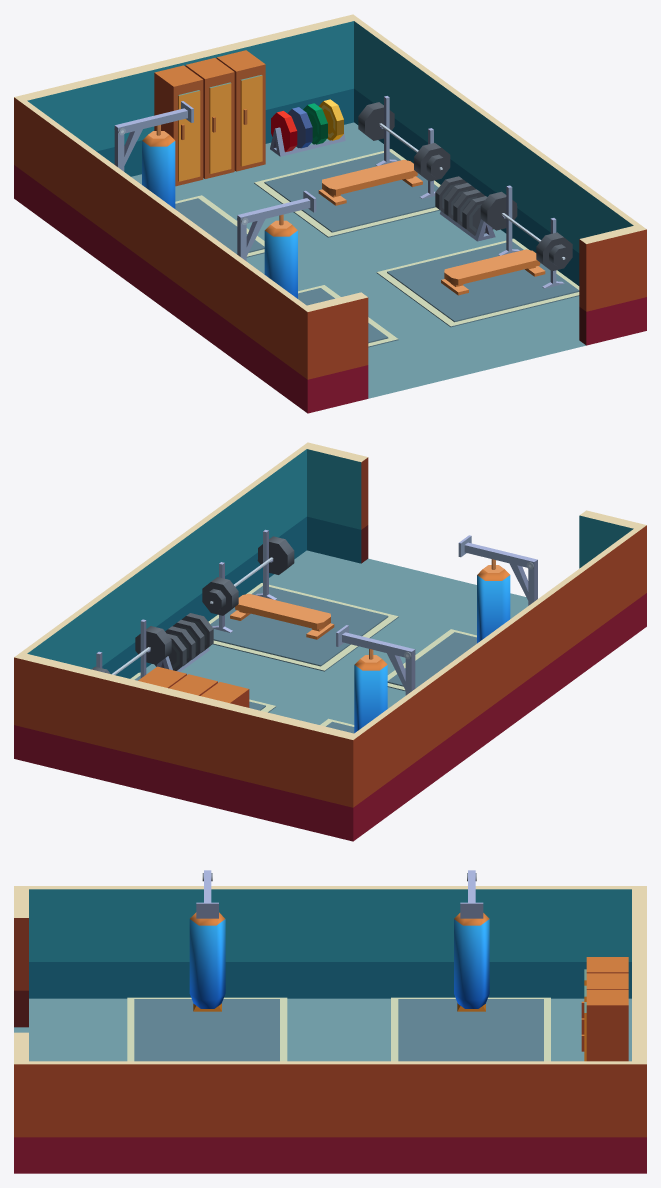
File: Gym_Room_winter.fbx
The picture shows the model from 3 angles, top to bottom: view 1: azimuth 30°, elevation 25°; view 2: azimuth 150°, elevation 25°; view 3: azimuth 270°, elevation 25°; orthographic projection. The views are drawn at different scales.
Parts seen in each view (by area): view 1: wall_half8, unit123, wall_half9, wall33, pCube16, wall35, wall34, pCube14, pCube21, pCube22, pCube23, weight1 (+12 smaller); view 2: wall33, wall_half8, wall_half9, unit123, pCube16, wall34, wall35, boxing3, boxing2, Bench2, Barbell1, weight (+8 smaller); view 3: wall_half9, wall_half8, unit123, pCube17, pCube15, wall33, pCube23, boxing2, boxing3, wall35, wall34, pCube22 (+3 smaller).
Boxes of the visible parts, x1=… form: wall_half8: x1=14, y1=96, x2=308, y2=407; unit123: x1=131, y1=122, x2=585, y2=398; wall_half9: x1=347, y1=15, x2=641, y2=285; wall33: x1=14, y1=14, x2=359, y2=203; pCube16: x1=376, y1=238, x2=579, y2=327; wall35: x1=300, y1=292, x2=368, y2=413; wall34: x1=579, y1=226, x2=646, y2=345; pCube14: x1=254, y1=149, x2=440, y2=237; pCube21: x1=154, y1=65, x2=203, y2=186; pCube22: x1=185, y1=58, x2=234, y2=178; pCube23: x1=216, y1=50, x2=265, y2=171; weight1: x1=270, y1=99, x2=345, y2=156; wall33: x1=18, y1=652, x2=360, y2=840; wall_half8: x1=347, y1=527, x2=641, y2=841; wall_half9: x1=14, y1=445, x2=308, y2=760; unit123: x1=140, y1=550, x2=528, y2=724; pCube16: x1=208, y1=583, x2=398, y2=671; wall34: x1=304, y1=442, x2=368, y2=563; wall35: x1=579, y1=510, x2=646, y2=631; boxing3: x1=354, y1=649, x2=387, y2=732; boxing2: x1=477, y1=559, x2=510, y2=643; Bench2: x1=230, y1=593, x2=334, y2=639; Barbell1: x1=202, y1=536, x2=294, y2=615; weight: x1=154, y1=613, x2=213, y2=671; wall_half9: x1=23, y1=1061, x2=646, y2=1173; wall_half8: x1=23, y1=886, x2=646, y2=998; unit123: x1=14, y1=998, x2=631, y2=1061; pCube17: x1=127, y1=997, x2=287, y2=1061; pCube15: x1=391, y1=997, x2=550, y2=1061; wall33: x1=632, y1=886, x2=646, y2=1173; pCube23: x1=581, y1=989, x2=628, y2=1061; boxing2: x1=189, y1=912, x2=225, y2=1008; boxing3: x1=454, y1=913, x2=489, y2=1008; wall35: x1=14, y1=886, x2=28, y2=1027; wall34: x1=14, y1=1032, x2=28, y2=1173; pCube22: x1=581, y1=973, x2=628, y2=1034.
Bounding box in the file's own units: 700 × 262 × 1050.
